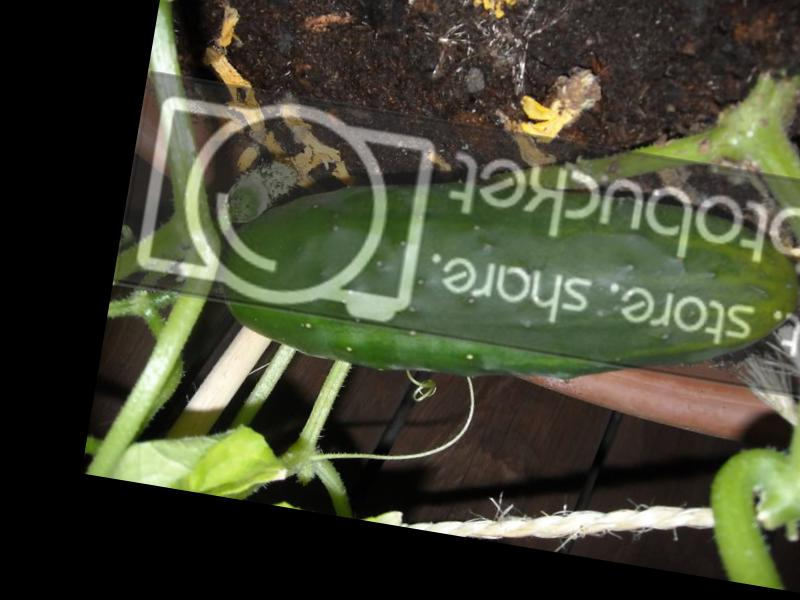Cucumber: (211, 129, 800, 432)
